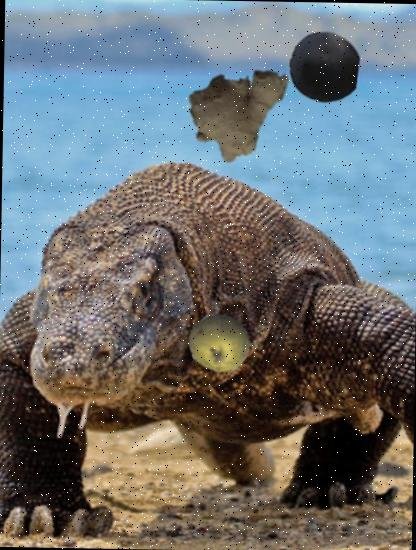Ginger: (186, 52, 300, 166)
Grape: (288, 30, 361, 104)
Pear: (188, 312, 252, 374)
